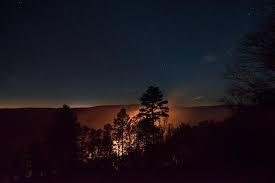fire: (109, 98, 181, 155)
